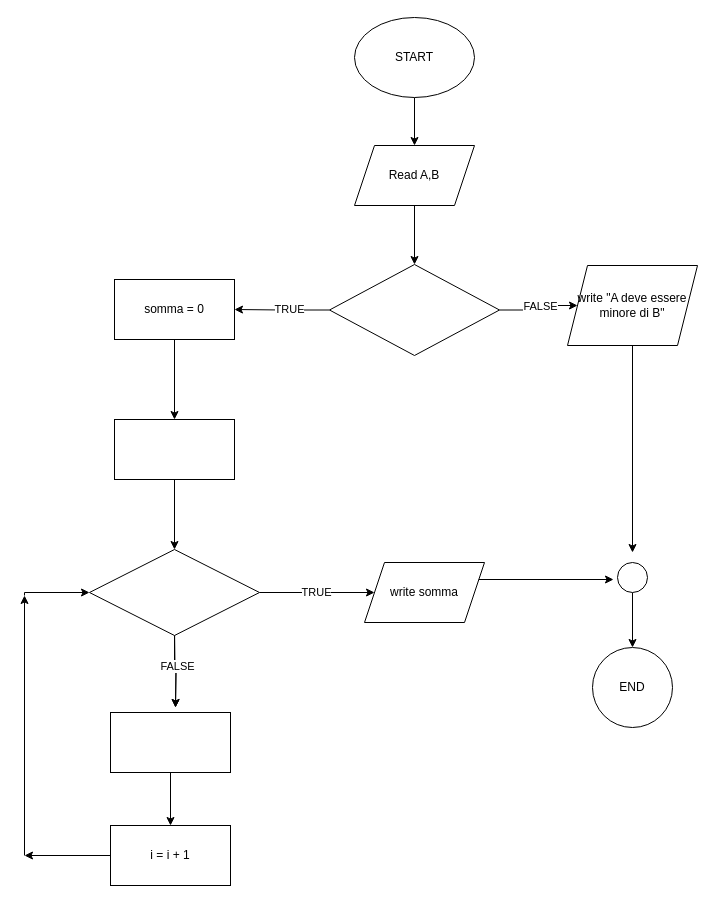
Image size: 715x903. Some labels were removed from this diagram. The shapes that lost their labels are listed below. From the top down, each one's centre as x and y in pixels, then its label:
At point 414,310: "(A>0 and A%1==0) (B>0 and A% 1 == 0) A < B".
At point 174,449: "i = A".
At point 174,592: "i > B".
At point 170,742: "somma = somma + 1".
